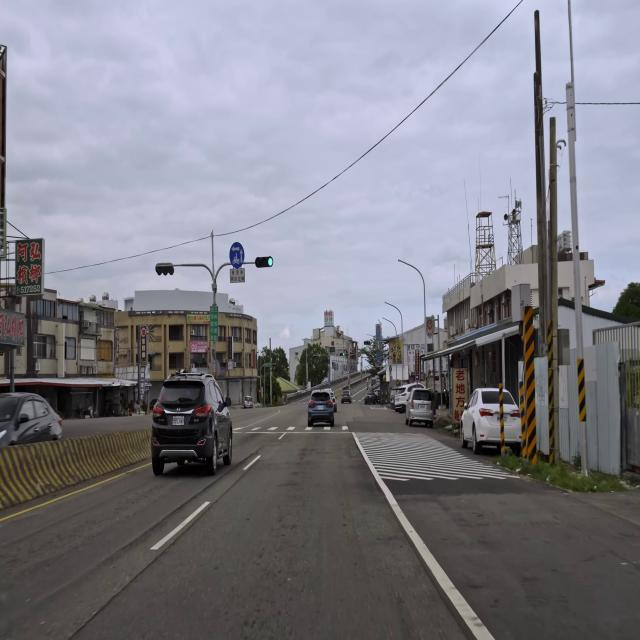green light: (254, 256, 274, 269)
